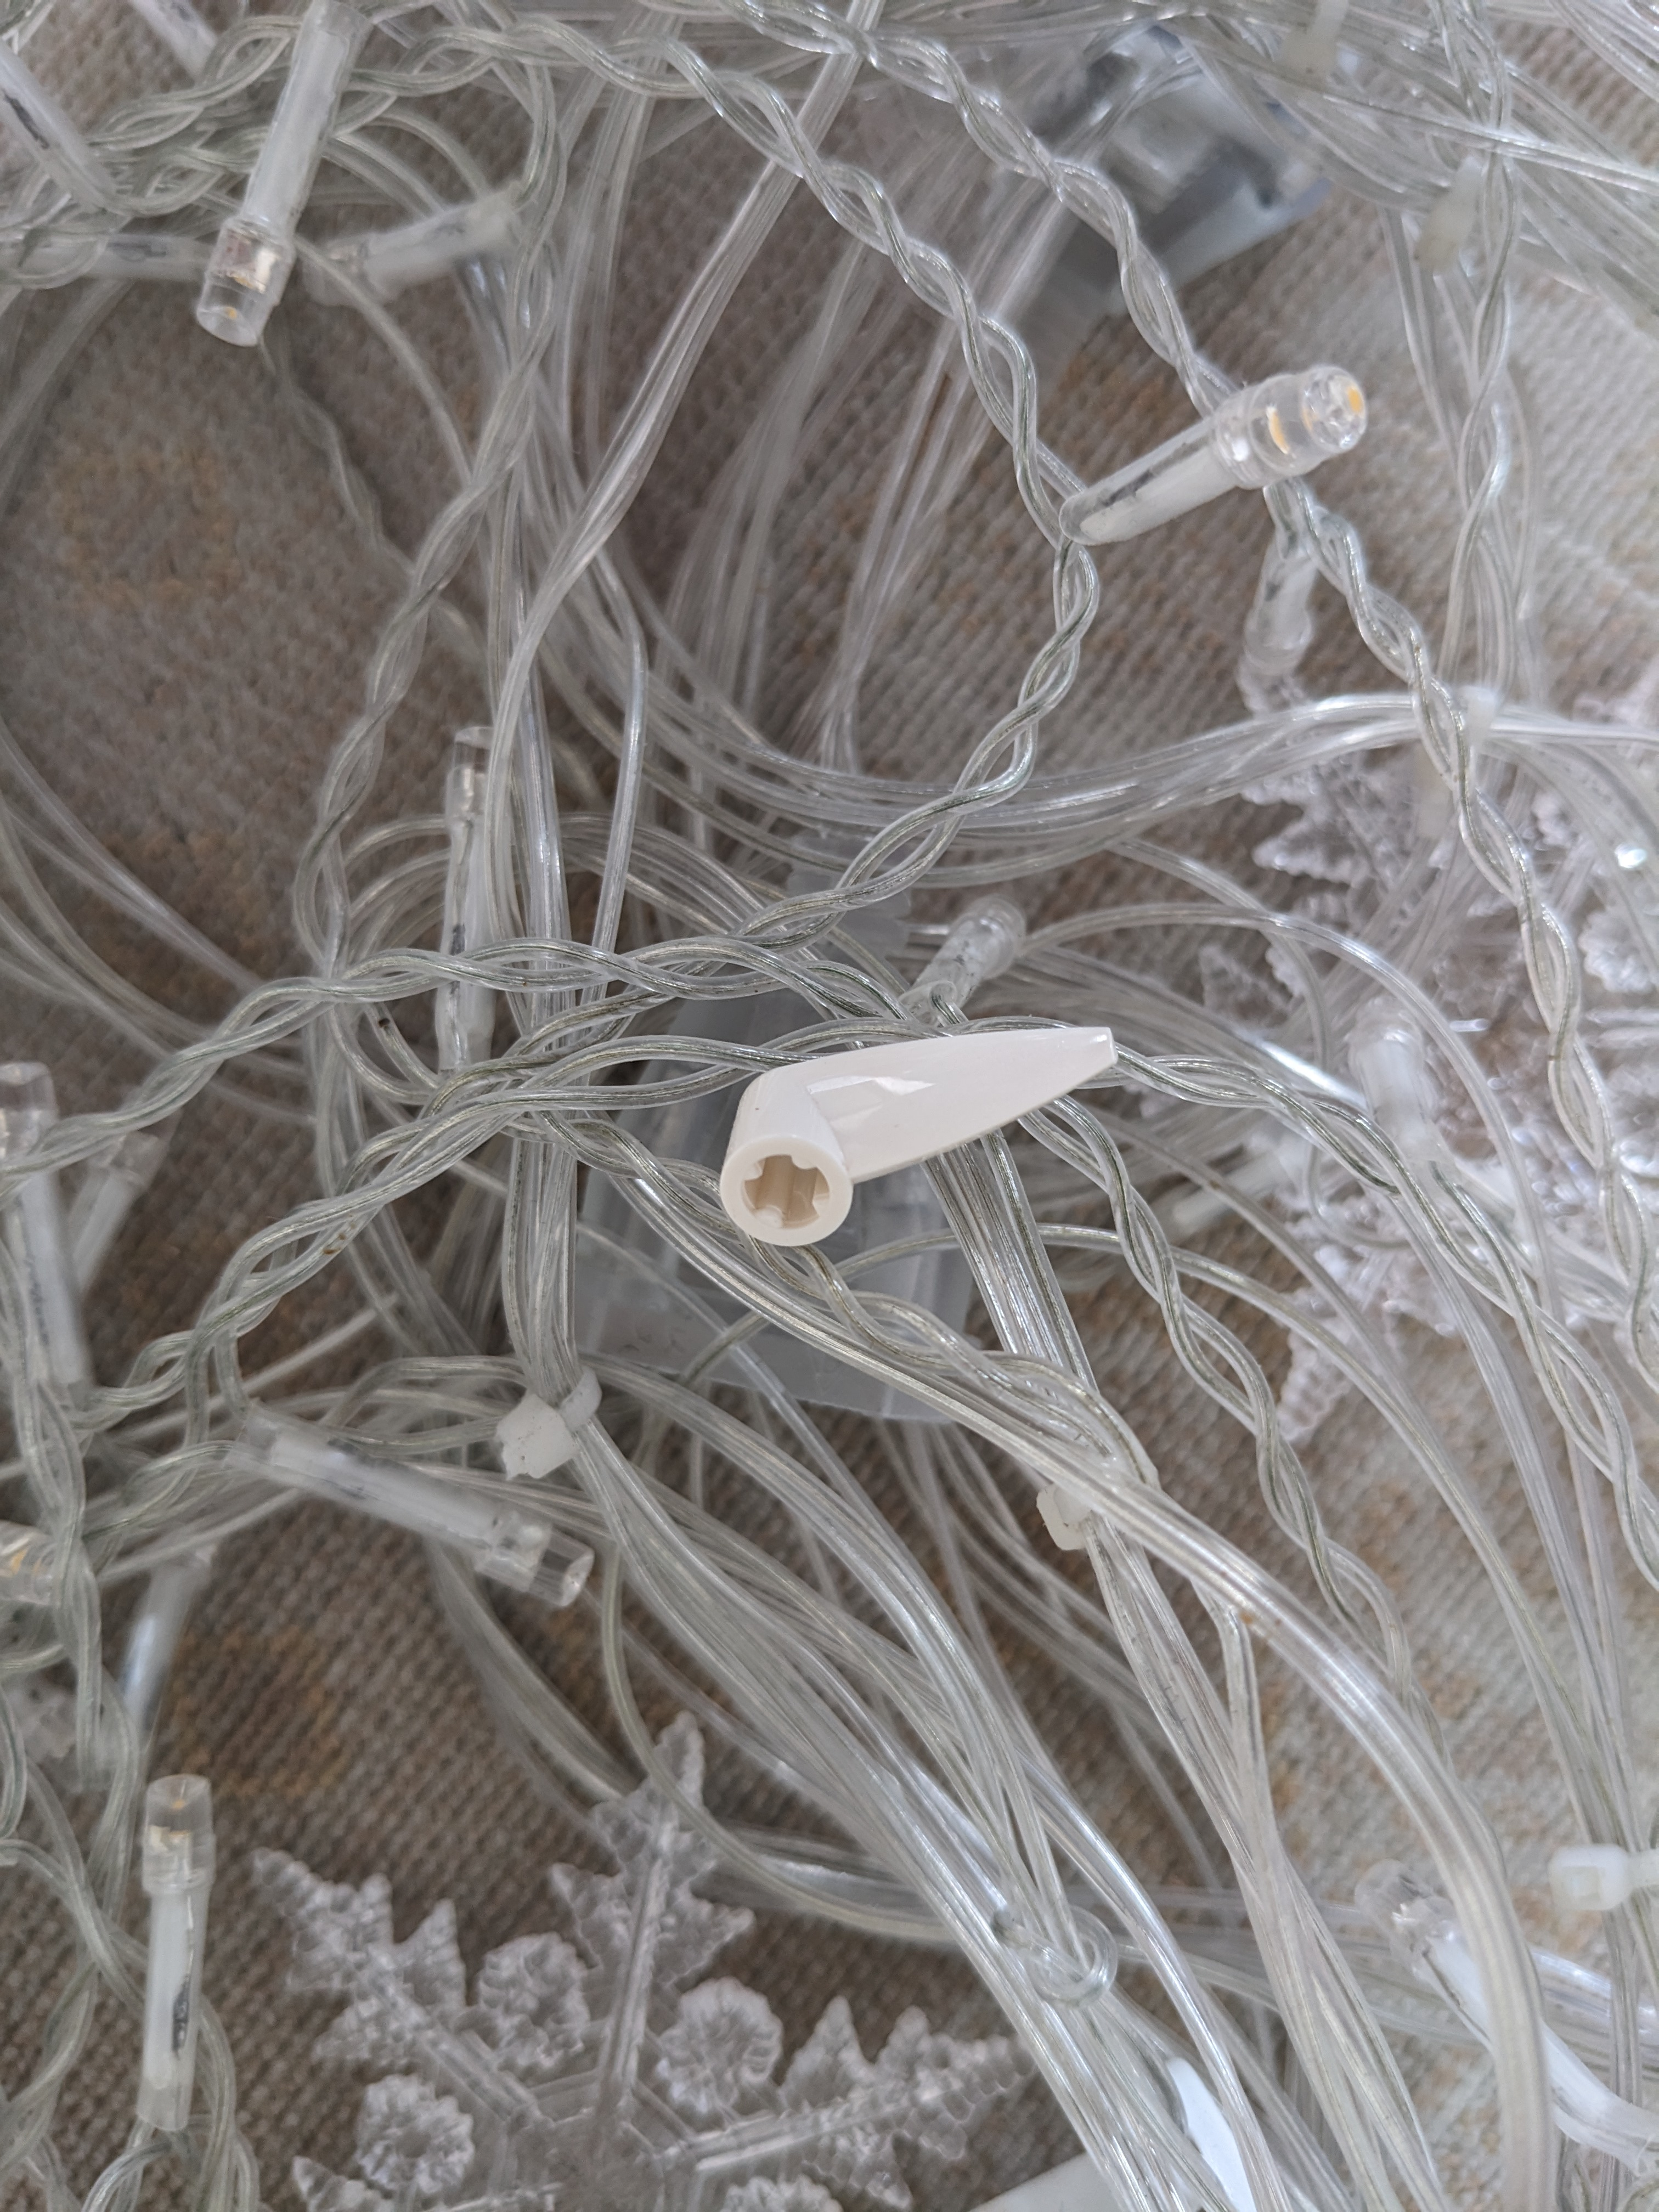Kappe: (711, 1005, 1127, 1258)
